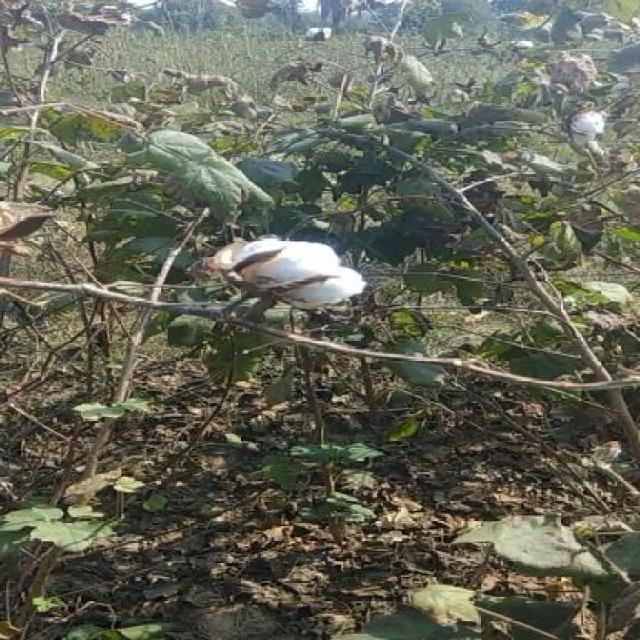cotton_ready: (188, 230, 384, 338)
